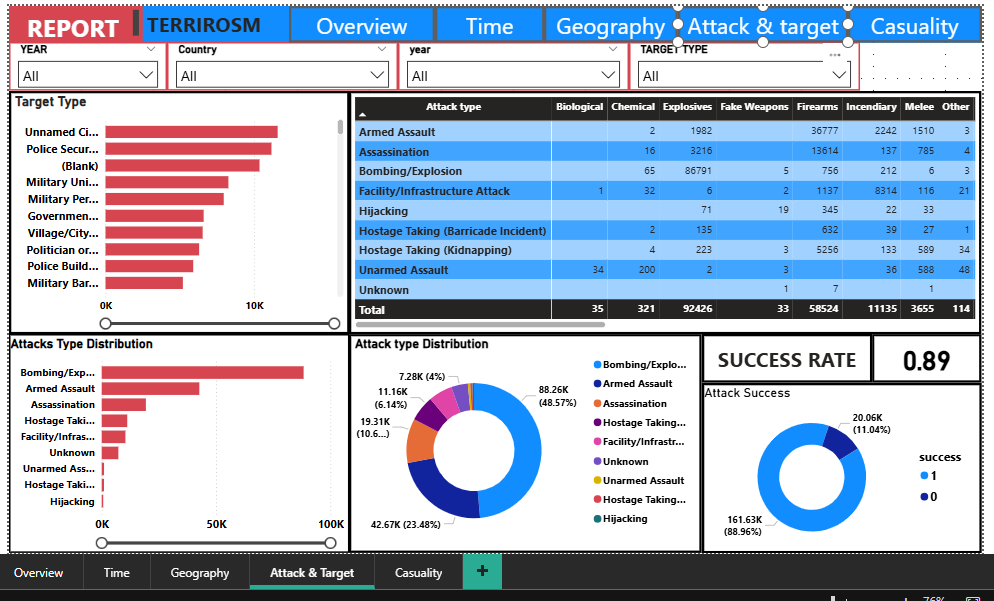

The dashboard page shown, as its layout file describes it:
{"tool":"powerbi","page":{"name":"Attack & Target","canvas":[1280,720],"ordinal":3},"visuals":[{"type":"shape","box":[0,0,1280,48],"z":0},{"type":"textbox","box":[0,0,176,48],"z":1000},{"type":"barChart","title":"Target Type","fields":{"Y":["CountNonNull(terror.eventid)"],"Category":["terror.targsubtype1_txt"]},"box":[0,112,448,320],"z":2000},{"type":"clusteredBarChart","title":"Attacks Type Distribution","fields":{"Category":["terror.attacktype1_txt"],"Y":["CountNonNull(terror.eventid)"]},"box":[0,432,448,288],"z":3000},{"type":"donutChart","title":"Attack type Distribution","fields":{"Category":["globalterrorismdb_0718dist.attacktype1_txt"],"Y":["CountNonNull(globalterrorismdb_0718dist.attacktype1_txt)"]},"box":[448,432,464,288],"z":4000},{"type":"textbox","box":[176,0,192,48],"z":5000},{"type":"donutChart","title":"Attack Success","fields":{"Category":["terror.success"],"Y":["CountNonNull(terror.eventid)"]},"box":[912,496,368,224],"z":6000},{"type":"card","fields":{"Values":["terror.Success Rate"]},"box":[1136,432,144,64],"z":7000},{"type":"pivotTable","fields":{"Rows":["terror.attacktype1_txt"],"Columns":["terror.weaptype1_txt"],"Values":["CountNonNull(terror.eventid)"]},"box":[448,112,832,320],"z":8000},{"type":"slicer","fields":{"Values":["terror.year"]},"box":[0,48,208,64],"z":9000},{"type":"slicer","fields":{"Values":["terror.country_txt"]},"box":[208,48,304,64],"z":10000},{"type":"slicer","fields":{"Values":["terror.year"]},"box":[512,48,304,64],"z":11000},{"type":"slicer","fields":{"Values":["terror.targtype1_txt"]},"box":[816,48,304,64],"z":12000},{"type":"textbox","box":[912,432,224,64],"z":13000},{"type":"actionButton","box":[880,0,224,48],"z":14000},{"type":"actionButton","box":[1104,0,176,48],"z":15000},{"type":"actionButton","box":[704,0,176,48],"z":16000},{"type":"actionButton","box":[560,0,144,48],"z":17000},{"type":"actionButton","box":[368,0,192,48],"z":18000}]}

Visuals, with their boxes in screenshot pixels (x1, y1, x2, y2):
shape: bbox=(3, 3, 983, 39)
textbox: bbox=(3, 3, 137, 39)
"Target Type" barChart: bbox=(3, 88, 346, 333)
"Attacks Type Distribution" clusteredBarChart: bbox=(3, 333, 346, 554)
"Attack type Distribution" donutChart: bbox=(346, 333, 701, 554)
textbox: bbox=(137, 3, 284, 39)
"Attack Success" donutChart: bbox=(701, 382, 983, 554)
card - terror.Success Rate: bbox=(873, 333, 983, 382)
pivotTable - terror.attacktype1_txt x terror.weaptype1_txt: bbox=(346, 88, 983, 333)
slicer - terror.year: bbox=(3, 39, 162, 88)
slicer - terror.country_txt: bbox=(162, 39, 395, 88)
slicer - terror.year: bbox=(395, 39, 628, 88)
slicer - terror.targtype1_txt: bbox=(628, 39, 860, 88)
textbox: bbox=(701, 333, 873, 382)
actionButton: bbox=(677, 3, 848, 39)
actionButton: bbox=(848, 3, 983, 39)
actionButton: bbox=(542, 3, 677, 39)
actionButton: bbox=(431, 3, 542, 39)
actionButton: bbox=(284, 3, 431, 39)
